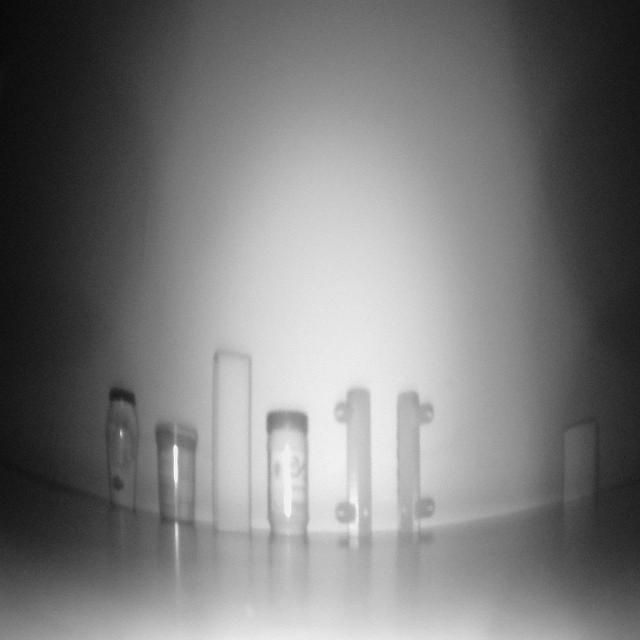targets: (211, 356, 250, 529), (334, 387, 372, 551), (401, 394, 436, 542), (153, 424, 198, 527), (269, 414, 306, 536), (105, 384, 138, 511), (566, 420, 595, 504)
